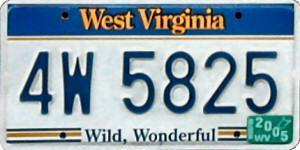placa de veiculo: (1, 0, 288, 150)
